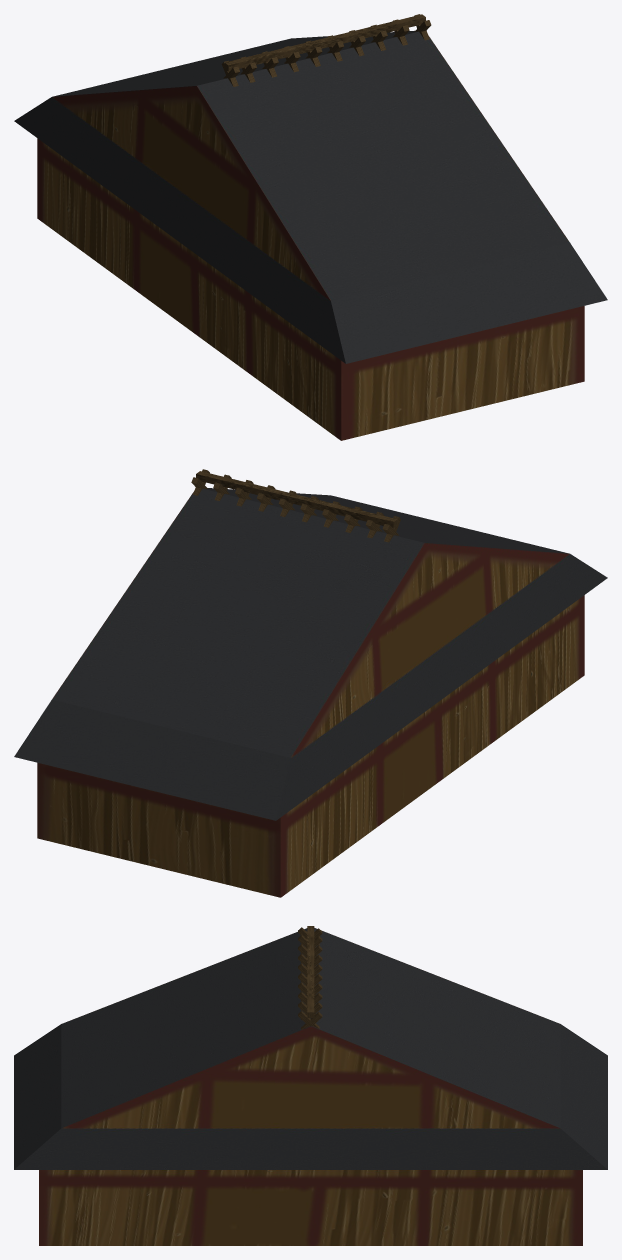
The model's file is house3.fbx.
3 renders of one model, top to bottom at view 1: azimuth 30°, elevation 25°; view 2: azimuth 150°, elevation 25°; view 3: azimuth 270°, elevation 25°, orthographic. The views are drawn at different scales.
Parts seen in each view (by area): view 1: Box169; view 2: Box169; view 3: Box169.
Boxes of the visible parts, x1=… form: Box169: x1=14, y1=14, x2=607, y2=440; Box169: x1=14, y1=469, x2=607, y2=897; Box169: x1=14, y1=926, x2=607, y2=1245.
Bounding box in the file's own units: 46.91 × 43.91 × 103.
